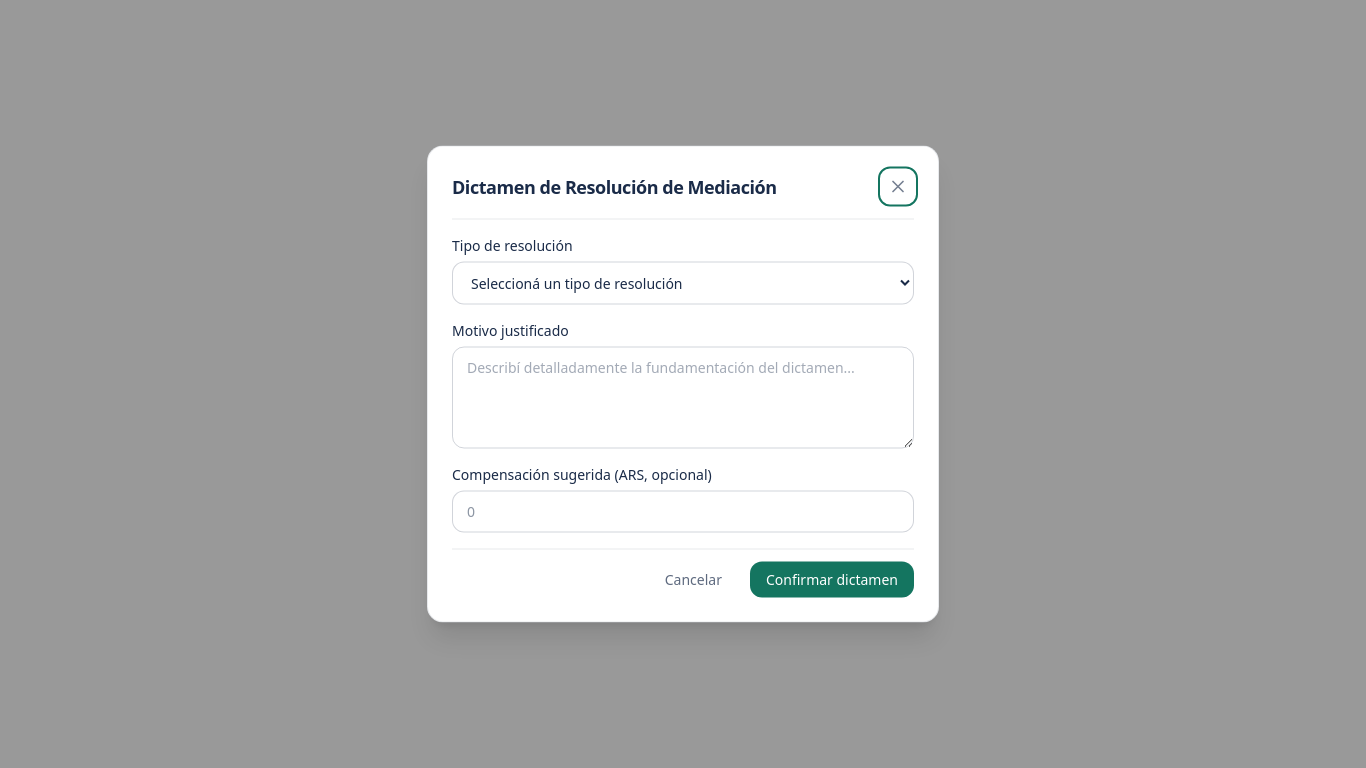
Test: ClaimResolutionModal › validates that reason is required and shows error without submitting
Click the button "Confirmar dictamen": x=832, y=580 left=750, top=562, right=914, bottom=598
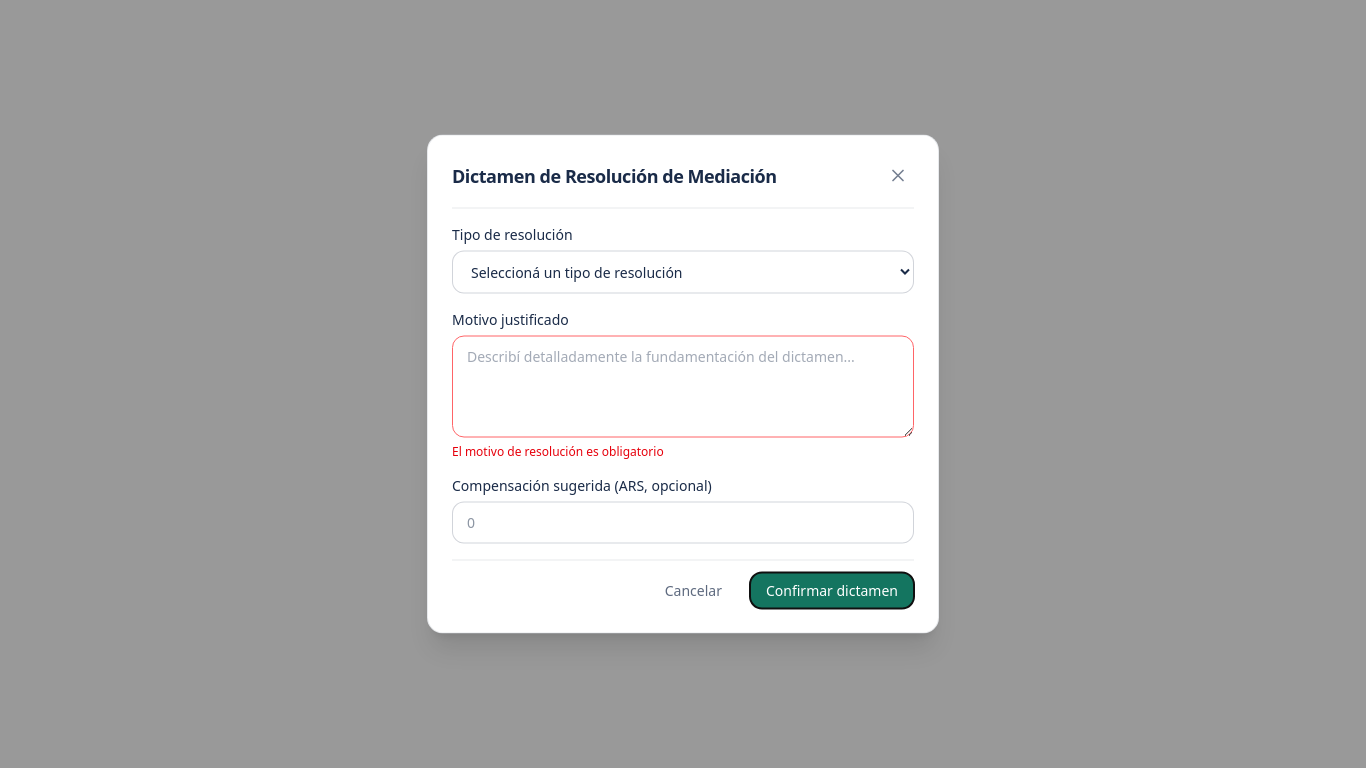
Now the message reads "El motivo de resolución es obligatorio", box left=452, top=442, right=664, bottom=460
